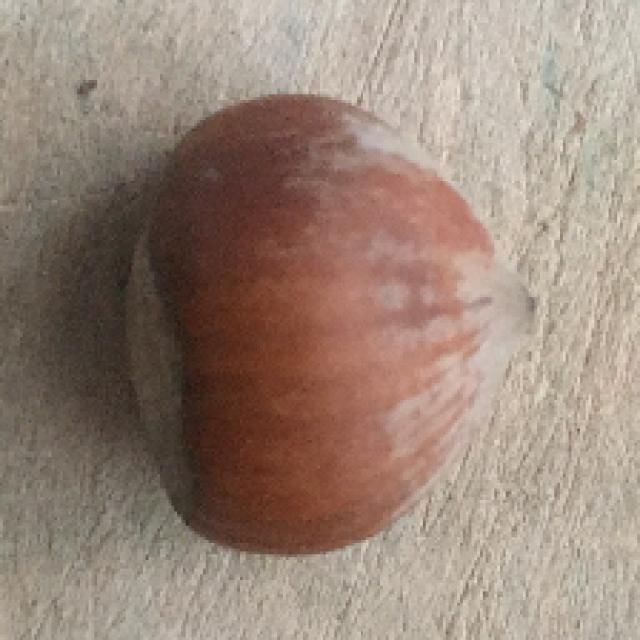qualityHazelnut: (126, 93, 542, 557)
